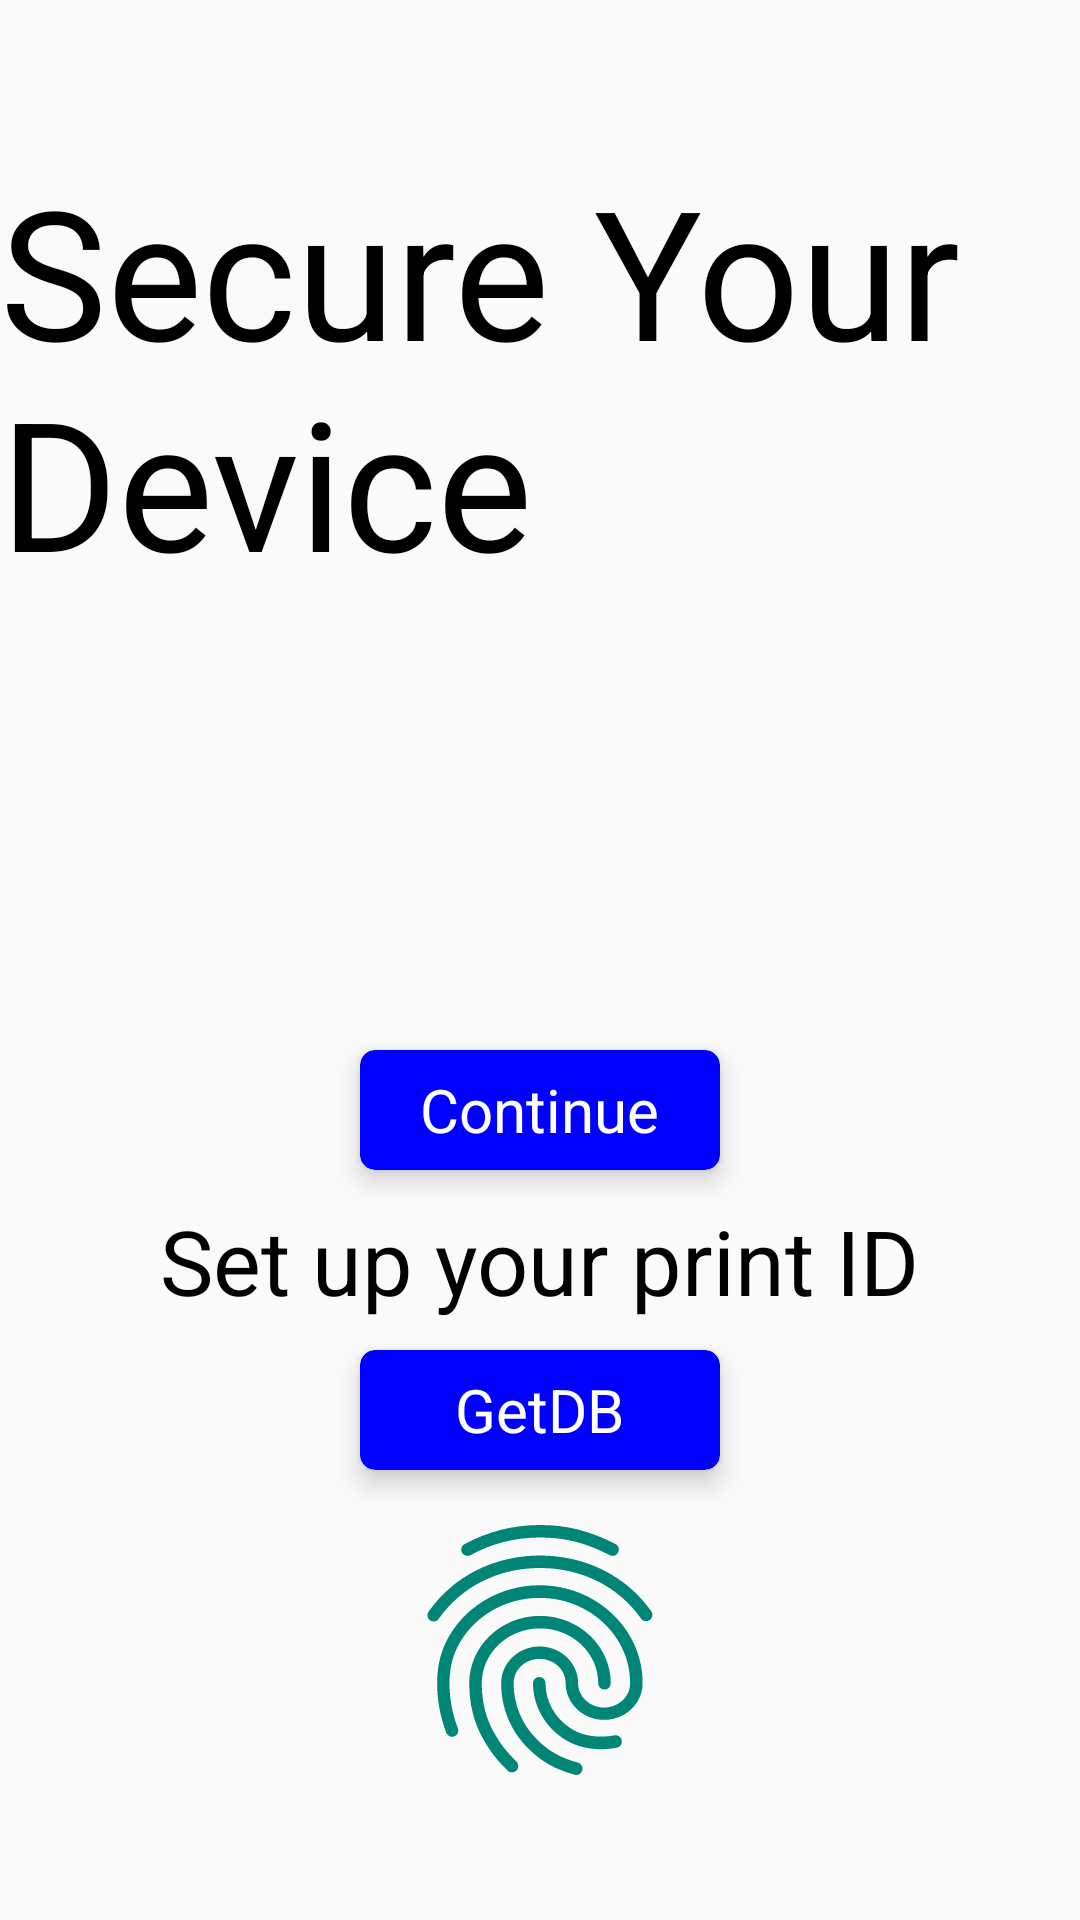

Where icons sit on this 1080px x 1920px app screen, as (x1, y1, x2, y2):
fingerprint: (427, 1525, 653, 1775)
